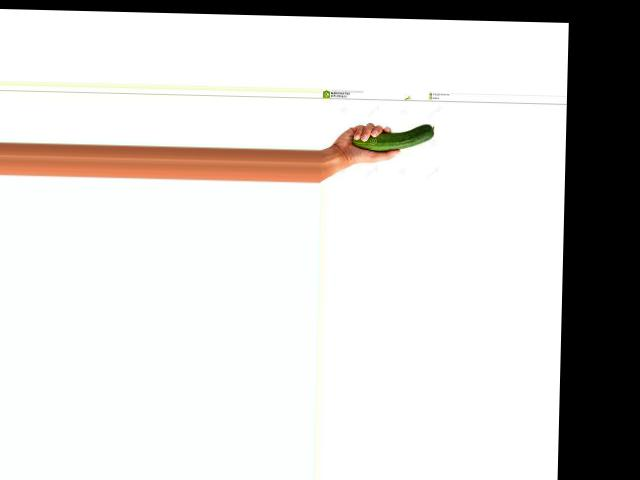cucumber: (352, 122, 434, 151)
